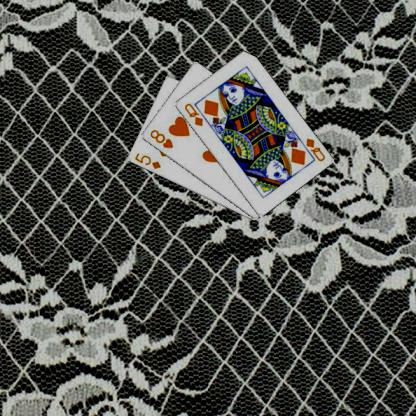5D: (132, 150, 162, 171)
8H: (147, 126, 174, 150)
QD: (181, 100, 204, 128), (303, 135, 326, 163)
